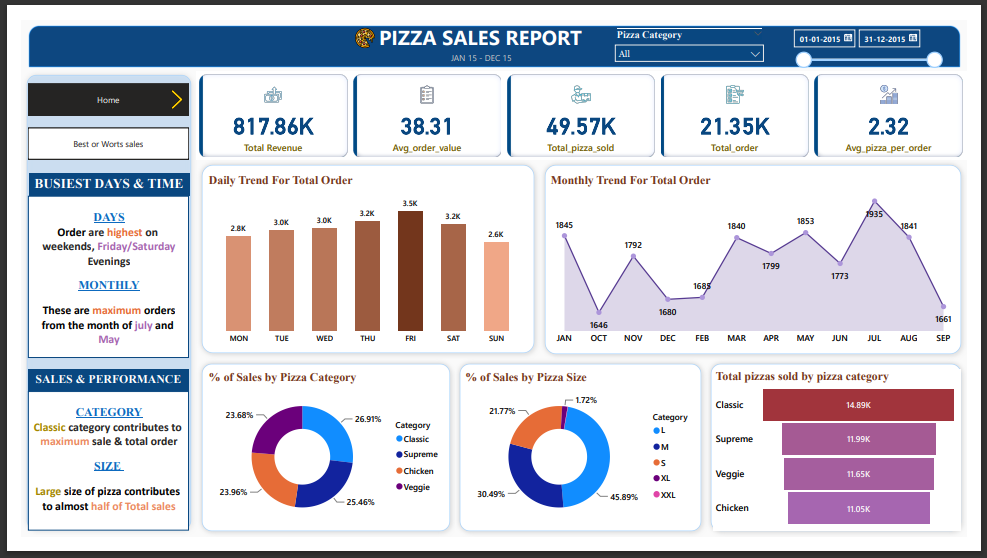

What the dashboard file says about the page in this screenshot:
{"tool":"powerbi","page":{"name":"Home","canvas":[1500,820],"ordinal":0},"visuals":[{"type":"shape","box":[0,78.3,278.3,738.3],"z":0},{"type":"cardVisual","fields":{"Data":["pizza_sales.Total Revenue","pizza_sales.Avg_order_value","pizza_sales.Total_pizza_sold","pizza_sales.Total_order","pizza_sales.Avg_pizza_per_order"]},"box":[278.3,81.7,1221.7,140],"z":1000},{"type":"shape","box":[11.7,8.3,1478.3,66.7],"z":2000},{"type":"textbox","box":[563.3,0,367.8,62.2],"z":3000},{"type":"textbox","box":[676.7,45.6,115.6,33.3],"z":4000},{"type":"image","box":[523.8,8.5,43.1,39.2],"z":5000},{"type":"shape","box":[278.3,221.7,545,315],"z":6000},{"type":"columnChart","title":"Daily Trend For Total Order","fields":{"Category":["pizza_sales.Day"],"Y":["pizza_sales.Total_order"]},"box":[293.3,243.3,513.3,280],"z":7000},{"type":"shape","box":[823.3,221.7,676.7,316.7],"z":8000},{"type":"areaChart","title":"Monthly Trend For Total Order","fields":{"Category":["pizza_sales.Month_Name_srt"],"Y":["pizza_sales.Total_order"]},"box":[835,243.3,655,280],"z":9000},{"type":"shape","box":[278.3,536.7,410,283.3],"z":10000},{"type":"shape","box":[1085,536.7,415,283.3],"z":11000},{"type":"shape","box":[688.3,536.7,398.3,283.3],"z":12000},{"type":"donutChart","title":"% of Sales by Pizza Category","fields":{"Y":["pizza_sales.Total Revenue"],"Category":["pizza_sales.pizza_category"]},"box":[293.3,555,383.3,255],"z":13000},{"type":"donutChart","title":"% of Sales by Pizza Size","fields":{"Y":["pizza_sales.Total Revenue"],"Category":["pizza_sales.pizza_size"]},"box":[700,555,385,255],"z":14000},{"type":"funnel","title":"Total pizzas sold by pizza category","fields":{"Y":["pizza_sales.Total_pizza_sold"],"Category":["pizza_sales.pizza_category"]},"box":[1097.1,554.3,392.9,255.7],"z":15000},{"type":"textbox","box":[11.7,243.3,255,35],"z":16000},{"type":"textbox","box":[11.2,278.8,255,257.5],"z":16001},{"type":"textbox","box":[11.2,553.8,255,35],"z":16002},{"type":"textbox","box":[11.2,588.8,255,221.2],"z":16003},{"type":"slicer","fields":{"Values":["pizza_sales.pizza_category"]},"box":[931.7,8.3,256.7,70],"z":16004},{"type":"slicer","fields":{"Values":["pizza_sales.order_date"]},"box":[1213.3,5,256.7,73.3],"z":16005},{"type":"pageNavigator","box":[11.4,101.4,255.7,50],"z":16006},{"type":"pageNavigator","box":[11.4,171.4,255.7,50],"z":16007},{"type":"image","box":[227.1,100,40,51.4],"z":16008}]}

Visuals, with their boxes on the page's 1500x820 design canvas (x1, y1, x2, y2). These are canvas units, not pixel positions in the 987x558 screenshot, which may show the page scaled, cropped or inside an application window:
shape: l=0, t=78, r=278, b=817
cardVisual - pizza_sales.Total Revenue x pizza_sales.Avg_order_value: l=278, t=82, r=1500, b=222
shape: l=12, t=8, r=1490, b=75
textbox: l=563, t=0, r=931, b=62
textbox: l=677, t=46, r=792, b=79
image: l=524, t=8, r=567, b=48
shape: l=278, t=222, r=823, b=537
"Daily Trend For Total Order" columnChart: l=293, t=243, r=807, b=523
shape: l=823, t=222, r=1500, b=538
"Monthly Trend For Total Order" areaChart: l=835, t=243, r=1490, b=523
shape: l=278, t=537, r=688, b=820
shape: l=1085, t=537, r=1500, b=820
shape: l=688, t=537, r=1087, b=820
"% of Sales by Pizza Category" donutChart: l=293, t=555, r=677, b=810
"% of Sales by Pizza Size" donutChart: l=700, t=555, r=1085, b=810
"Total pizzas sold by pizza category" funnel: l=1097, t=554, r=1490, b=810
textbox: l=12, t=243, r=267, b=278
textbox: l=11, t=279, r=266, b=536
textbox: l=11, t=554, r=266, b=589
textbox: l=11, t=589, r=266, b=810
slicer - pizza_sales.pizza_category: l=932, t=8, r=1188, b=78
slicer - pizza_sales.order_date: l=1213, t=5, r=1470, b=78
pageNavigator: l=11, t=101, r=267, b=151
pageNavigator: l=11, t=171, r=267, b=221
image: l=227, t=100, r=267, b=151
